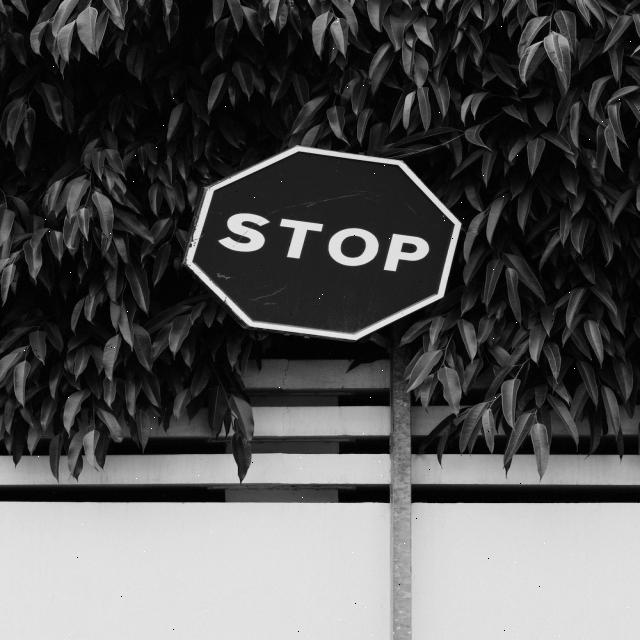Stop-sign: (152, 118, 500, 362)
